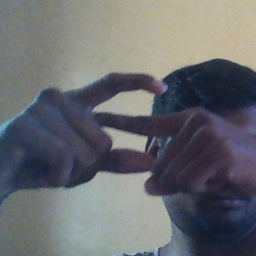E: (82, 69, 187, 185)
